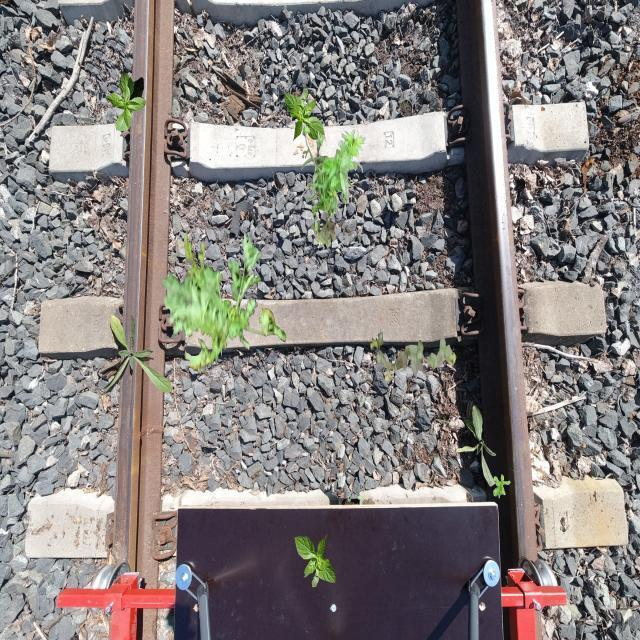Plant: (162, 230, 287, 377), (301, 124, 366, 232), (101, 314, 172, 395), (370, 331, 457, 382), (457, 405, 497, 488), (105, 71, 147, 131), (294, 534, 336, 588), (284, 88, 326, 142), (311, 217, 337, 249), (493, 474, 510, 498)
